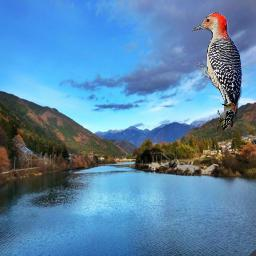Woodpecker: (191, 12, 242, 127), (216, 101, 240, 133)
